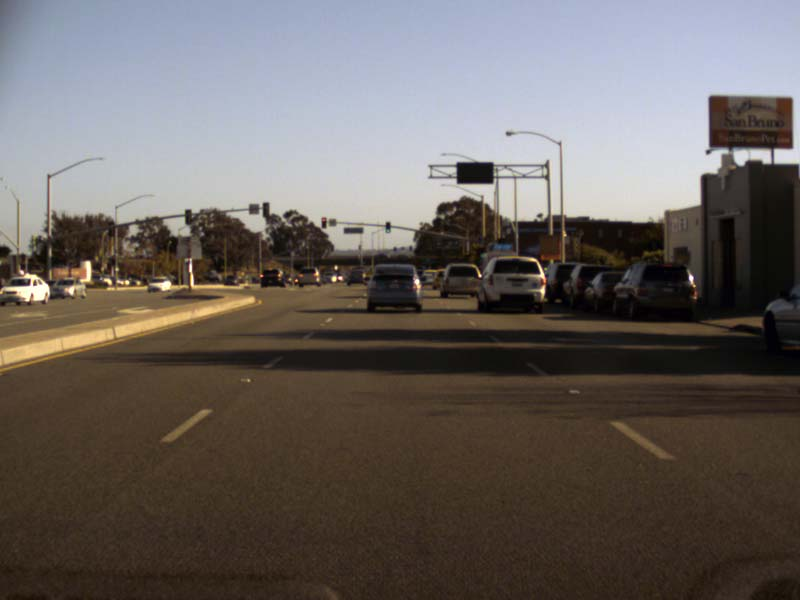Green: (385, 220, 389, 233)
Red: (321, 216, 325, 228)
